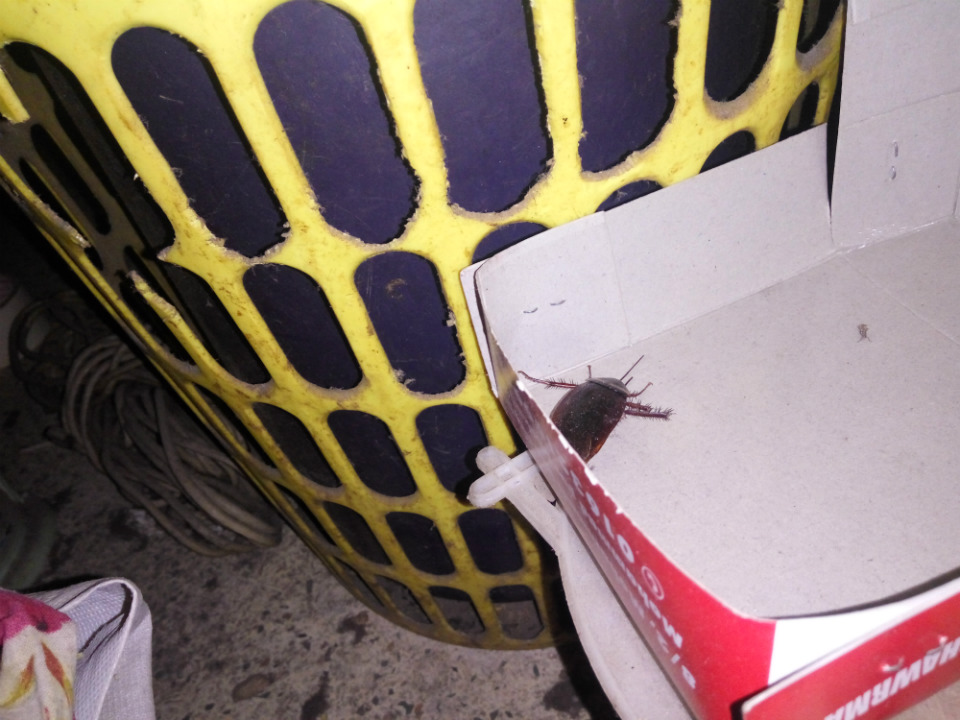cockroach: (525, 322, 698, 476)
